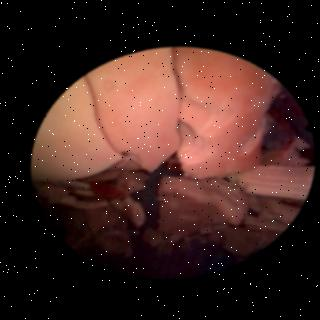stone: (32, 49, 275, 181), (34, 172, 145, 260), (138, 177, 242, 251), (208, 192, 294, 253), (225, 165, 307, 197), (257, 128, 307, 165)
